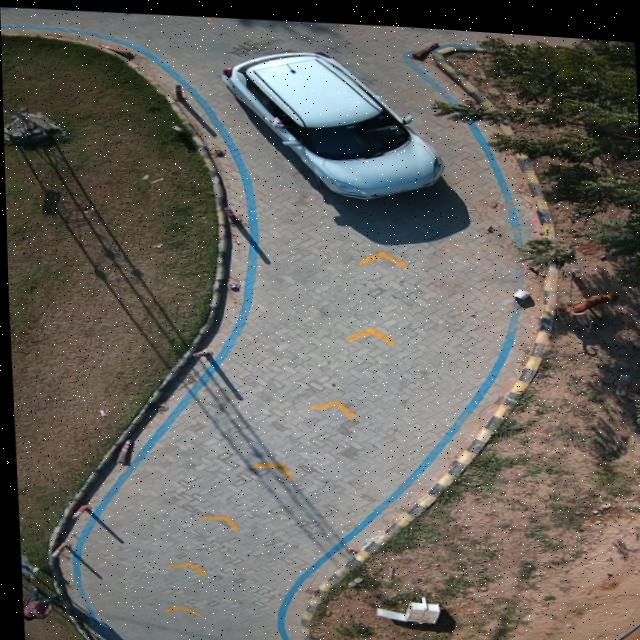car: (221, 46, 442, 193)
